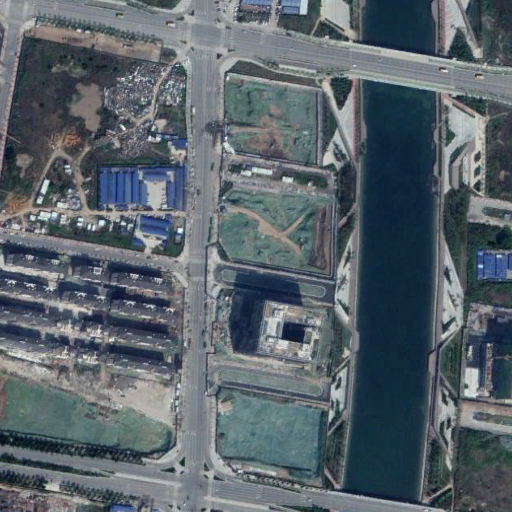cw: (5, 362, 175, 454), (217, 186, 334, 278), (212, 385, 321, 475), (224, 71, 320, 167)
